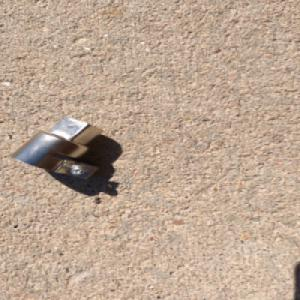MetalPart: (10, 116, 104, 180)
